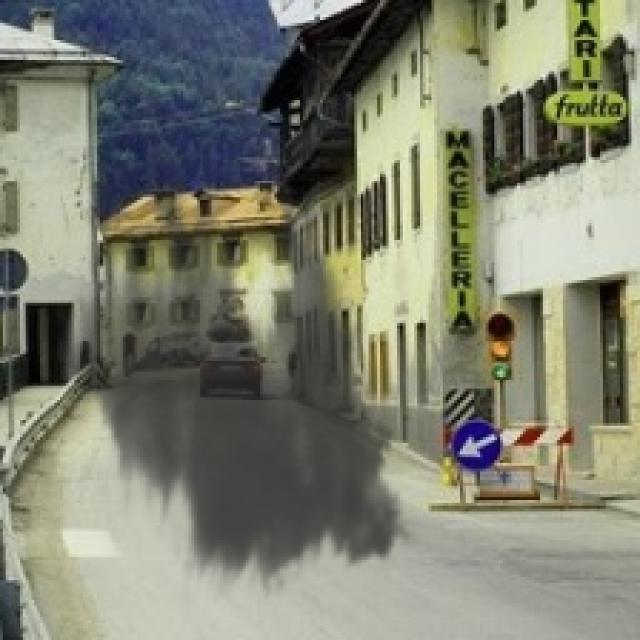smoke: (57, 180, 420, 603)
